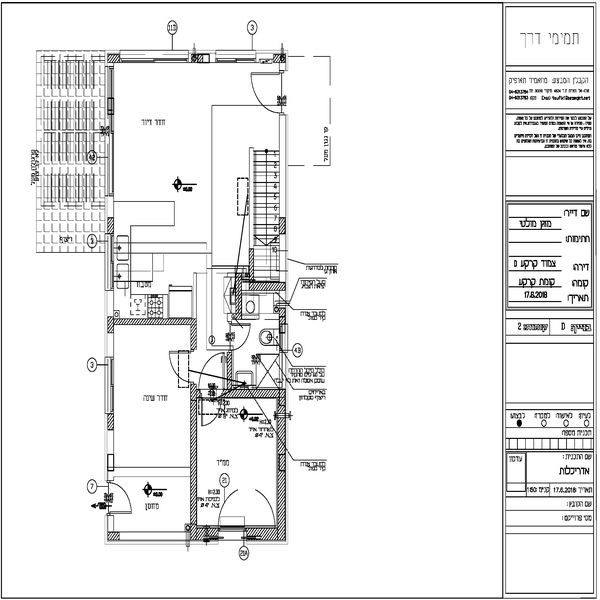door: (245, 74, 287, 113), (195, 389, 231, 426), (112, 474, 138, 518), (166, 346, 196, 384), (197, 354, 231, 384), (231, 317, 257, 353)
room: (98, 44, 292, 295), (97, 316, 207, 544), (179, 379, 285, 540), (226, 314, 294, 405)
wall: (272, 390, 292, 542), (186, 381, 204, 543), (104, 313, 200, 329), (177, 312, 206, 348), (223, 387, 287, 403), (241, 519, 277, 544), (230, 275, 245, 316), (249, 280, 285, 294), (243, 249, 257, 282)
window: (118, 44, 190, 65), (97, 234, 120, 297), (99, 131, 117, 195), (101, 361, 118, 414), (218, 47, 259, 64)
